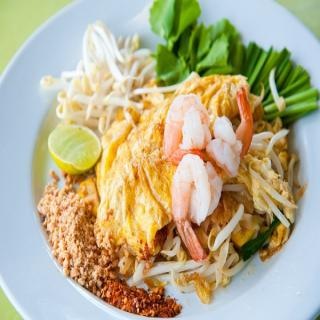meat: (169, 158, 222, 254), (165, 98, 209, 161), (216, 106, 254, 175)
pad_thai: (63, 47, 294, 275)
veg: (60, 34, 148, 121), (153, 7, 235, 79), (241, 46, 315, 125), (50, 125, 102, 175)
